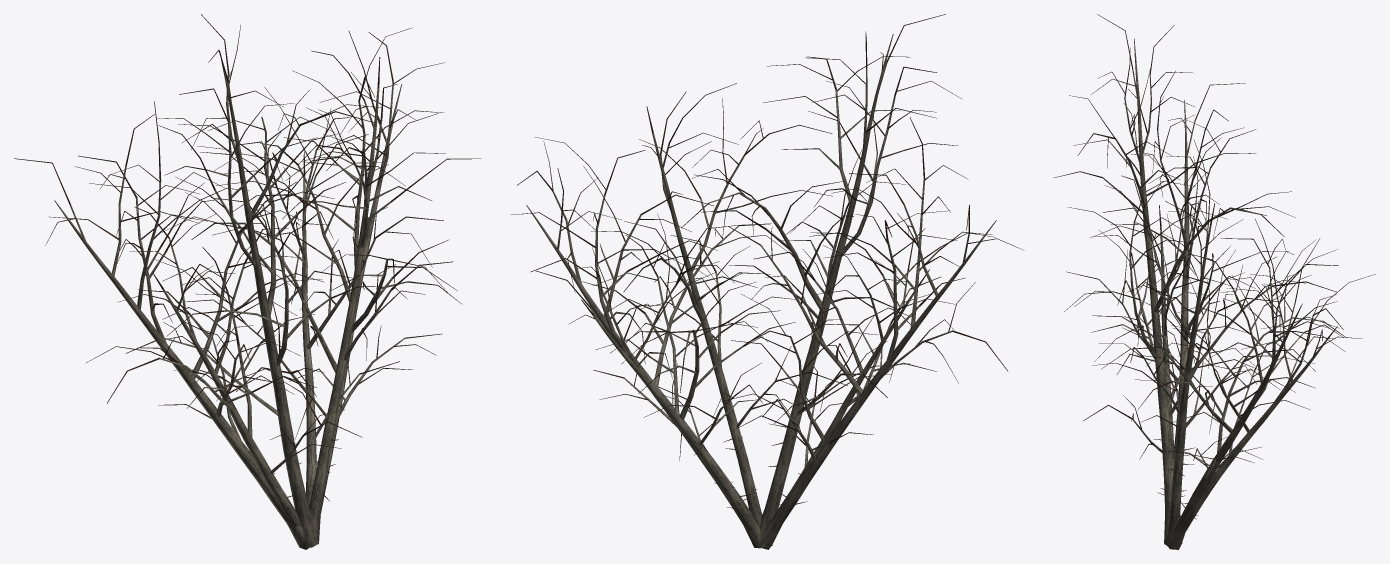
Rendered from willow_wood.glb.
The picture shows the model from 3 angles, left to right: view 1: azimuth 30°, elevation 25°; view 2: azimuth 150°, elevation 25°; view 3: azimuth 270°, elevation 25°; orthographic projection. The views are drawn at different scales.
Parts seen in each view (by area): view 1: willow_a, willow_b; view 2: willow_a, willow_b; view 3: willow_a, willow_b.
Part boxes in pixels (x1=…): willow_a: x1=14, y1=14, x2=462, y2=549; willow_b: x1=85, y1=50, x2=481, y2=535; willow_a: x1=511, y1=14, x2=1024, y2=549; willow_b: x1=530, y1=83, x2=1008, y2=537; willow_a: x1=1053, y1=14, x2=1346, y2=549; willow_b: x1=1064, y1=140, x2=1375, y2=545.
Size of the model in its own units: 10.63 by 12.21 by 7.46.
Materials: 2 (2 with a texture image).
